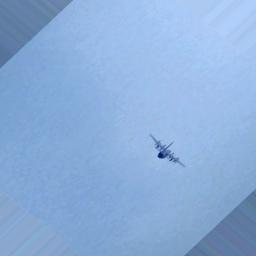Airplane: (149, 132, 184, 167)
